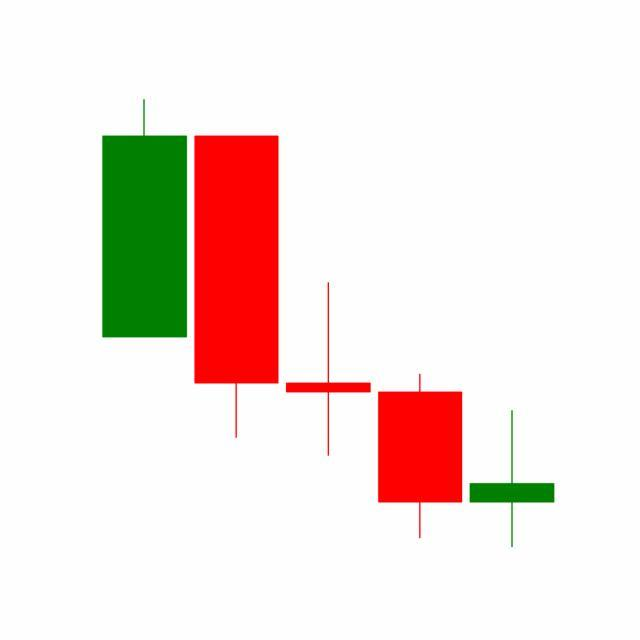Spinning Top: (466, 409, 559, 550)
